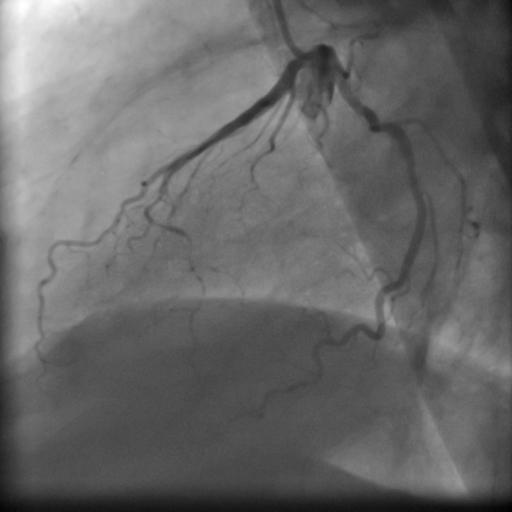Stenosis: (370, 105, 390, 140)
